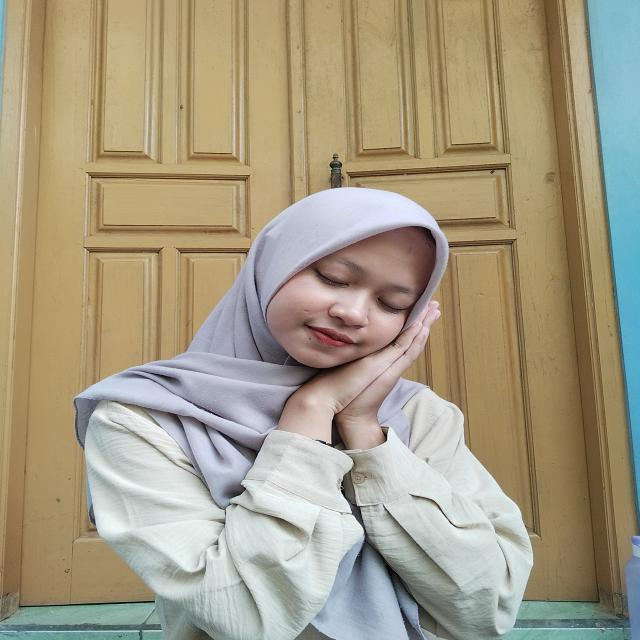tidur: (262, 299, 454, 468)
